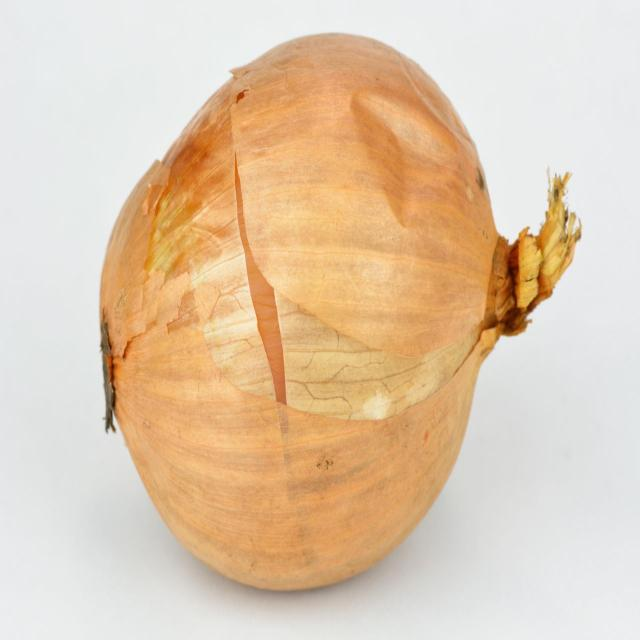Onion: (101, 30, 582, 594)
